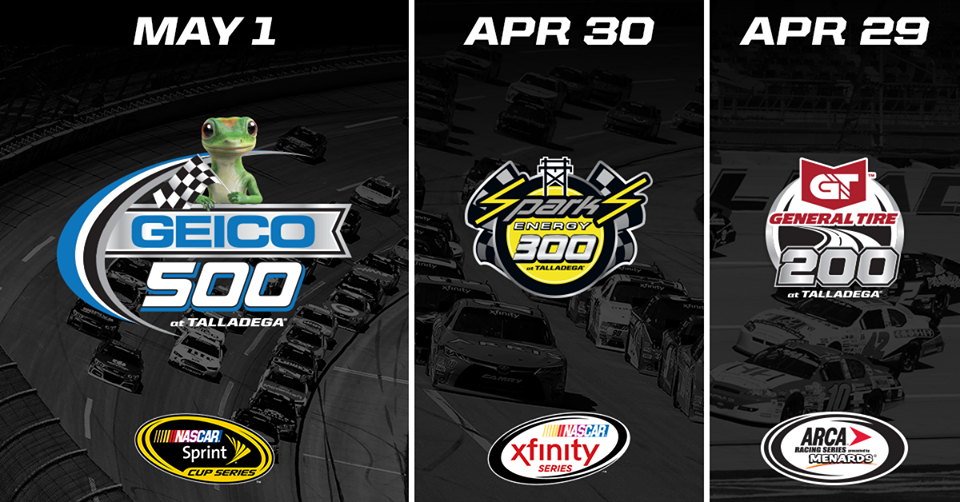Geico: (125, 207, 325, 252)
